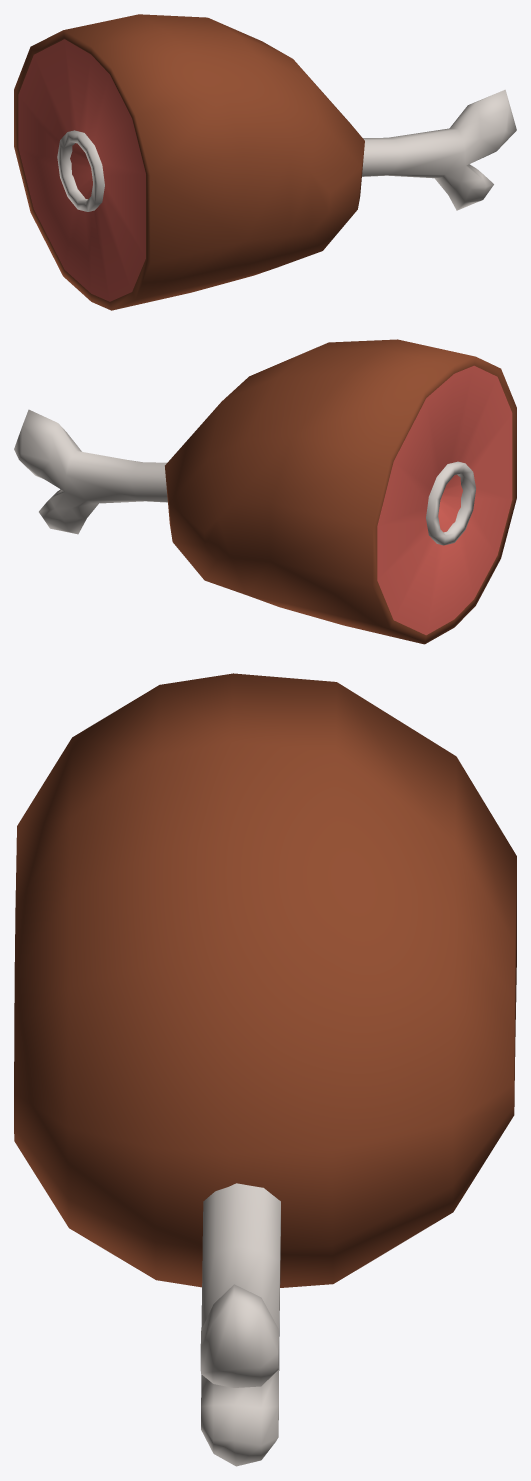
Rendered from SM_Ham.fbx.
The picture shows the model from 3 angles, top to bottom: view 1: azimuth 30°, elevation 25°; view 2: azimuth 150°, elevation 25°; view 3: azimuth 270°, elevation 25°; orthographic projection. The views are drawn at different scales.
Parts seen in each view (by area): view 1: Ham; view 2: Ham; view 3: Ham.
Part boxes in pixels (x1,y1,x2,y2): Ham: [14, 14, 516, 310]; Ham: [14, 339, 516, 644]; Ham: [14, 673, 516, 1466].
Size of the model in its own units: 36.41 by 64.72 by 36.99.
